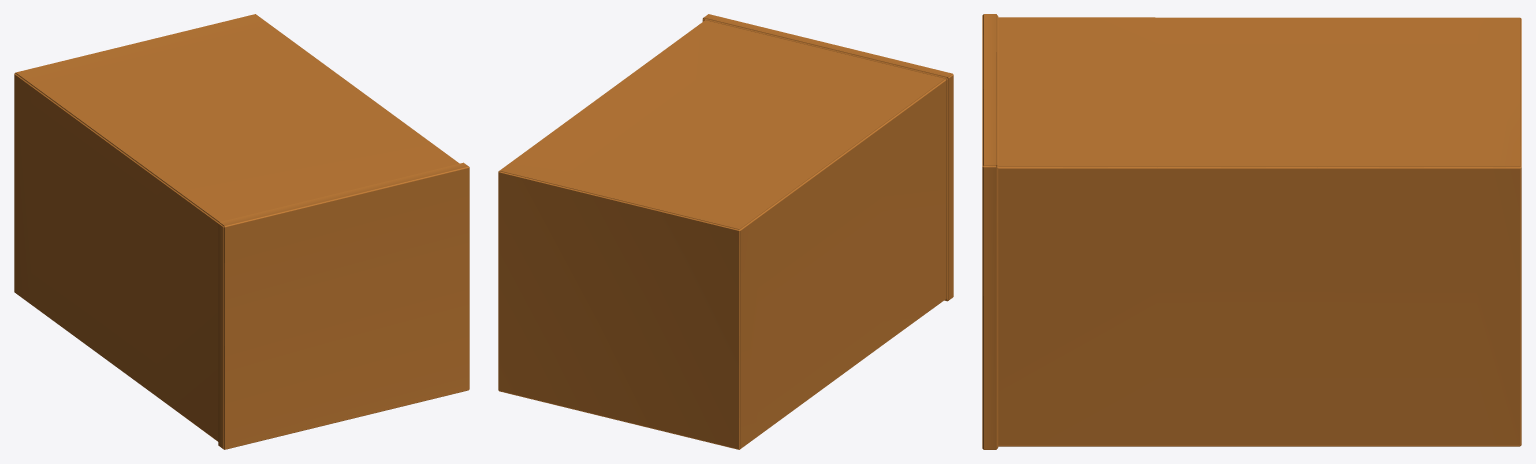
Rendered from DressermeshSideTable_303_2_0.obj.
The picture shows the model from 3 angles, left to right: view 1: azimuth 30°, elevation 25°; view 2: azimuth 150°, elevation 25°; view 3: azimuth 270°, elevation 25°; orthographic projection. The views are drawn at different scales.
Visible parts, largest first — view 1: SideTable_303_2; view 2: SideTable_303_2; view 3: SideTable_303_2.
Part boxes in pixels (x1,y1,x2,y2): SideTable_303_2: [14, 14, 469, 449]; SideTable_303_2: [498, 14, 953, 449]; SideTable_303_2: [982, 14, 1521, 449].
Size of the model in its own units: 0.334 by 0.2906 by 0.4991.
